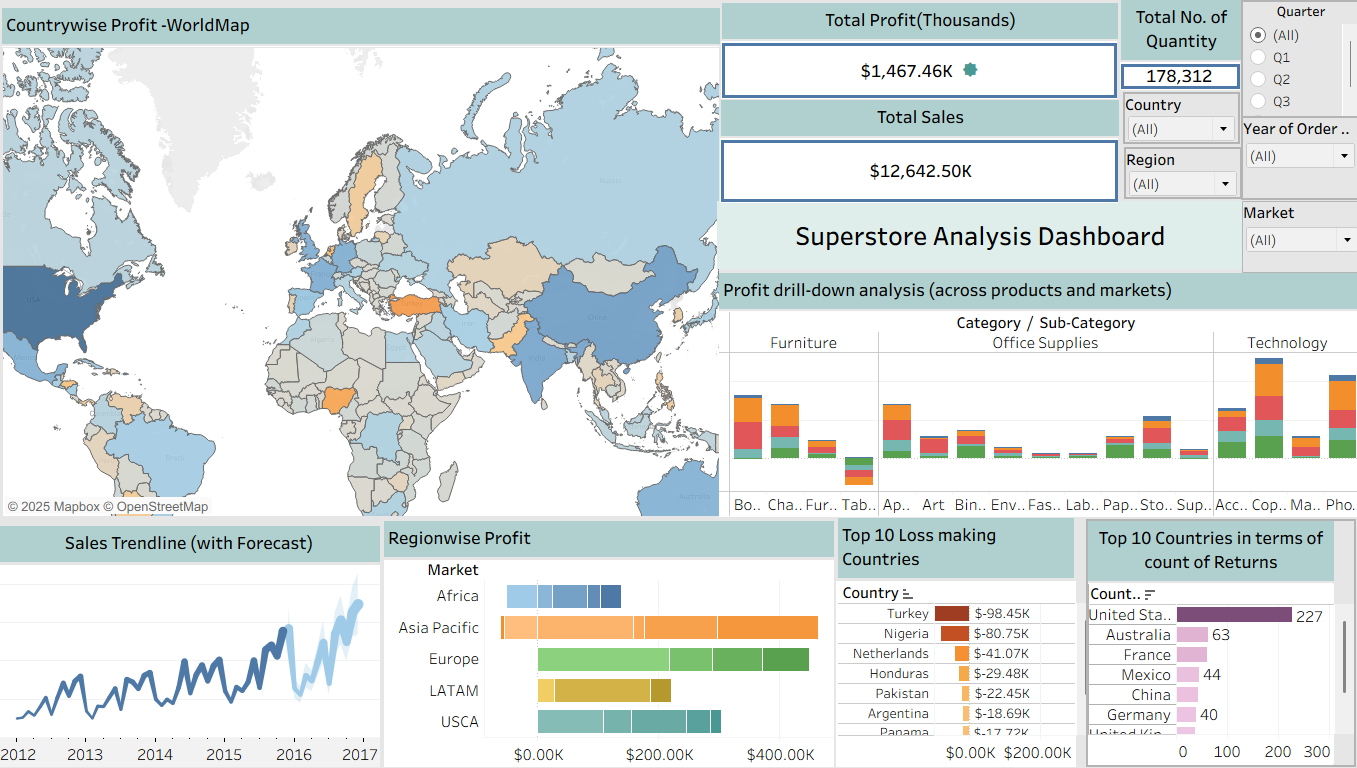

This screenshot's page, from the dashboard's own definition file:
{"tool":"tableau","page":{"name":"Dashboard","canvas":[1366,768],"ordinal":0},"visuals":[{"type":"worksheet","title":"Quantity card (2)","mark":"Automatic","box":[1122,0,121,90]},{"type":"filter","title":"Quantity card (2)","param":"[federated.0k1ajy81r3tkgu10o5yhg03z5iam].[qr:Order Date:ok]","box":[1243,0,120,118]},{"type":"worksheet","title":"Profit Card","mark":"Automatic","box":[723,3,397,96]},{"type":"worksheet","title":"Regionwise Profit worldmap","mark":"Automatic","box":[4,8,718,509]},{"type":"filter","title":"Profit Card","param":"[federated.0k1ajy81r3tkgu10o5yhg03z5iam].[none:Country:nk]","box":[1125,92,117,52]},{"type":"worksheet","title":"Sales Card","mark":"Automatic","box":[722,100,399,103]},{"type":"filter","title":"Pdt Profit F","param":"[federated.0k1ajy81r3tkgu10o5yhg03z5iam].[yr:Order Date:ok]","box":[1243,116,120,84]},{"type":"filter","title":"Profit Card","param":"[federated.0k1ajy81r3tkgu10o5yhg03z5iam].[none:Region:nk]","box":[1126,147,118,52]},{"type":"title","box":[719,201,527,68]},{"type":"filter","title":"Regionwise Profit (2)","param":"[federated.0k1ajy81r3tkgu10o5yhg03z5iam].[none:Market:nk]","box":[1244,201,121,72]},{"type":"worksheet","title":"Pdt Profit F","mark":"Automatic","rows":["Profit"],"cols":["Category","Sub-Category"],"box":[721,273,644,244]},{"type":"worksheet","title":"Top 10 Loss bar","mark":"Automatic","rows":["Country"],"cols":["Profit"],"box":[838,518,261,249]},{"type":"worksheet","title":"Top 10 Returns","mark":"Automatic","rows":["Country"],"cols":["Returns_329445F72E434ECDB9D44EF7423A821D"],"box":[1088,519,271,248]},{"type":"worksheet","title":"Regionwise Profit (2)","mark":"Automatic","rows":["Market"],"cols":["Profit"],"box":[386,521,450,246]},{"type":"worksheet","title":"Sales Trendline","mark":"Automatic","rows":["Sales"],"cols":["Order Date"],"box":[0,526,382,241]}]}

Visuals, with their boxes in screenshot pixels (x1, y1, x2, y2), scaled from the page's 1366x768 canvas onto the 1357x768 screenshot:
"Quantity card (2)" worksheet: bbox(1115, 0, 1235, 90)
"Quantity card (2)" filter: bbox(1235, 0, 1354, 118)
"Profit Card" worksheet: bbox(718, 3, 1113, 99)
"Regionwise Profit worldmap" worksheet: bbox(4, 8, 717, 517)
"Profit Card" filter: bbox(1118, 92, 1234, 144)
"Sales Card" worksheet: bbox(717, 100, 1114, 203)
"Pdt Profit F" filter: bbox(1235, 116, 1354, 200)
"Profit Card" filter: bbox(1119, 147, 1236, 199)
title: bbox(714, 201, 1238, 269)
"Regionwise Profit (2)" filter: bbox(1236, 201, 1356, 273)
"Pdt Profit F" worksheet: bbox(716, 273, 1356, 517)
"Top 10 Loss bar" worksheet: bbox(832, 518, 1092, 767)
"Top 10 Returns" worksheet: bbox(1081, 519, 1350, 767)
"Regionwise Profit (2)" worksheet: bbox(383, 521, 830, 767)
"Sales Trendline" worksheet: bbox(0, 526, 379, 767)
